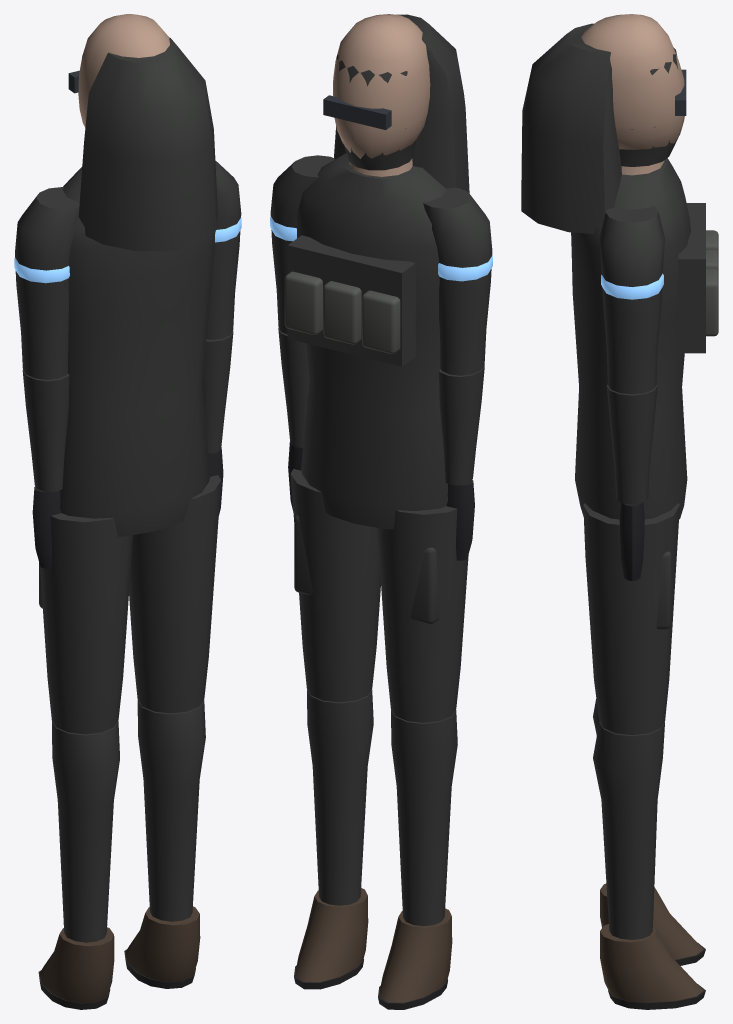
Rendered from char_phantom.glb.
3 views of the same model, side by side, from view 1: azimuth 30°, elevation 25°; view 2: azimuth 150°, elevation 25°; view 3: azimuth 270°, elevation 25° (orthographic). The views are drawn at different scales.
Visible parts, largest first — view 1: char_phantom; view 2: char_phantom; view 3: char_phantom.
Part boxes in pixels (x1=…): char_phantom: x1=14, y1=14, x2=241, y2=1009; char_phantom: x1=270, y1=14, x2=492, y2=1009; char_phantom: x1=521, y1=14, x2=718, y2=1009.
Size of what is drawn, in the model's own units: 0.432 by 1.83 by 0.3422.
